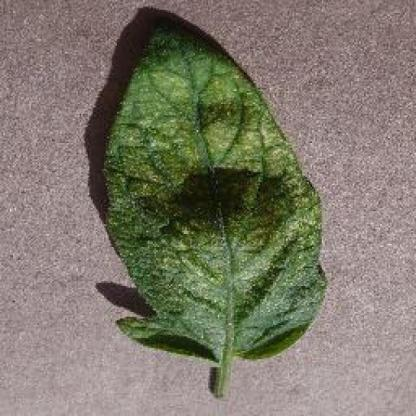Tomato_Spider_Mites: (103, 23, 324, 357)
